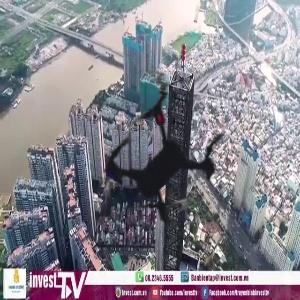drone: (37, 37, 299, 299)
